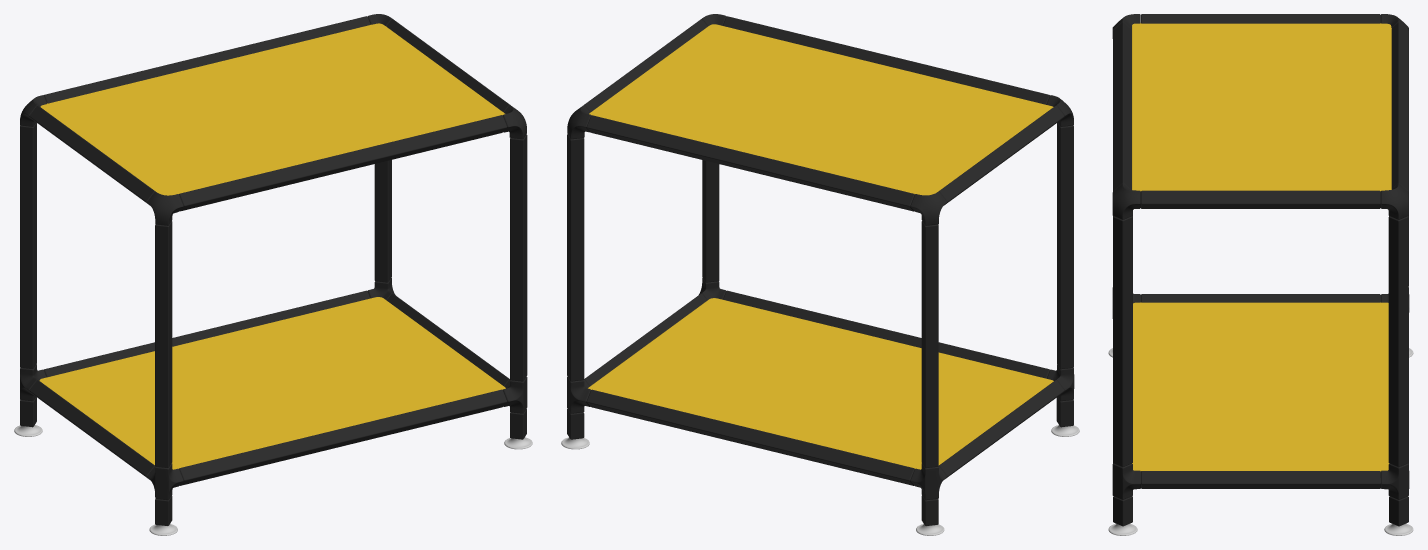
3 renders of one model, left to right at view 1: azimuth 30°, elevation 25°; view 2: azimuth 150°, elevation 25°; view 3: azimuth 270°, elevation 25°, orthographic. The views are drawn at different scales.
Visible parts, largest first — view 1: 523x329x374; view 2: 523x329x374; view 3: 523x329x374.
Part boxes in pixels (x1,y1,x2,y2): 523x329x374: (14, 14, 532, 535); 523x329x374: (561, 14, 1079, 535); 523x329x374: (1108, 14, 1413, 535).
Bounding box in the file's own units: 0.6129 × 0.5133 × 0.4182.
